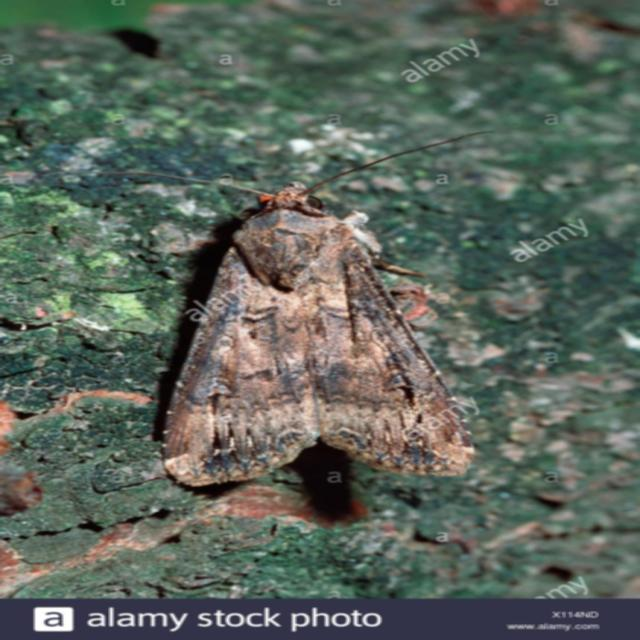black cutworm: (170, 177, 509, 494)
